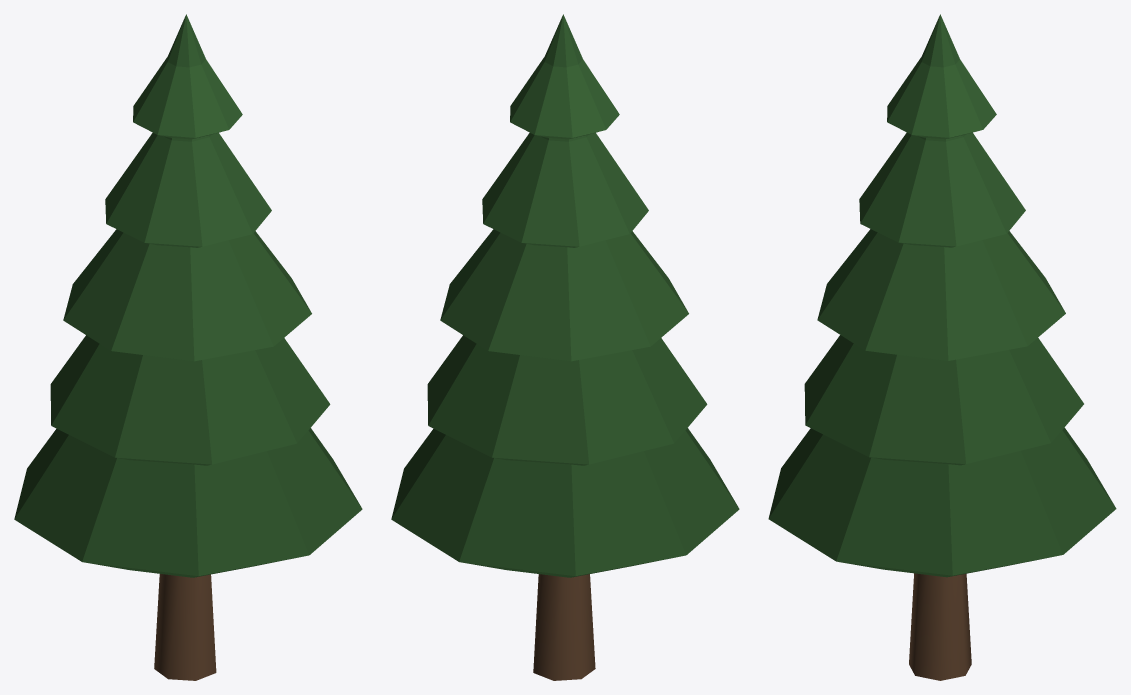
File: tree_pine.glb
3 renders of one model, left to right at view 1: azimuth 30°, elevation 25°; view 2: azimuth 150°, elevation 25°; view 3: azimuth 270°, elevation 25°, orthographic.
Parts seen in each view (by area): view 1: tree; view 2: tree; view 3: tree.
Boxes of the visible parts, x1=… form: tree: x1=14, y1=14, x2=362, y2=680; tree: x1=391, y1=14, x2=739, y2=680; tree: x1=768, y1=14, x2=1116, y2=680.
Bounding box in the file's own units: 2.9 × 6.03 × 2.91.
